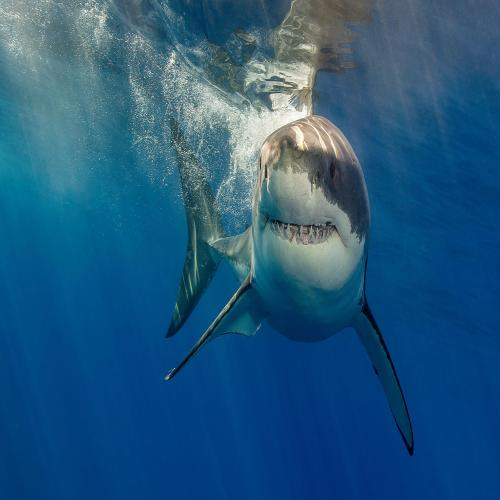shark-endangered: (154, 92, 397, 381)
